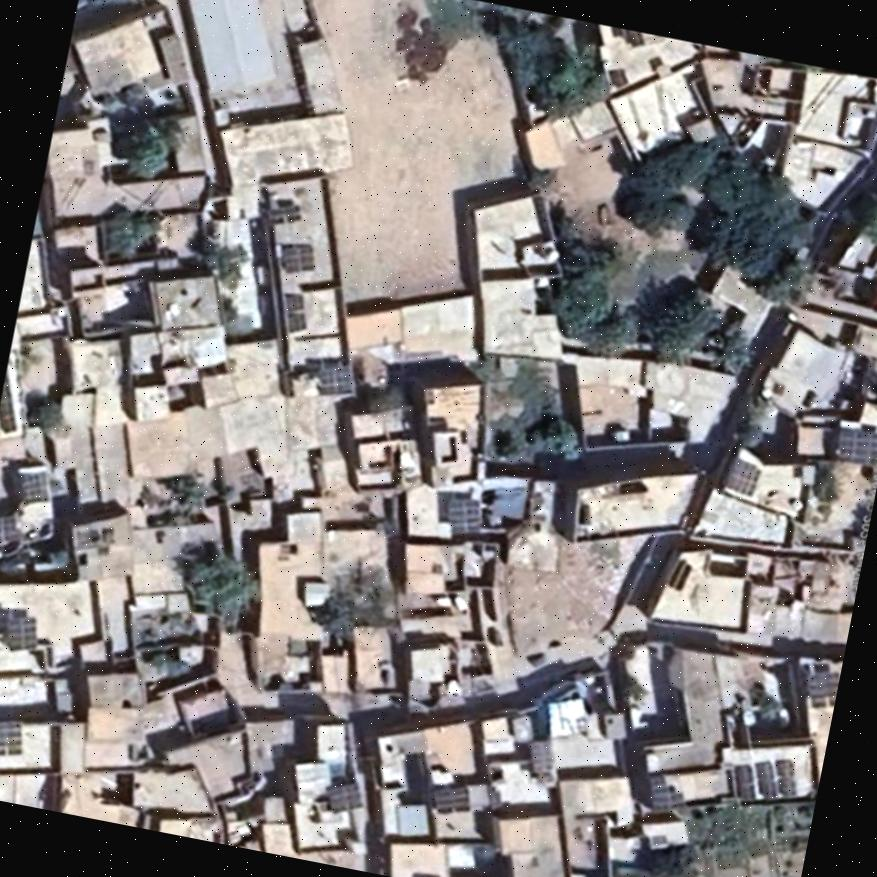Solarpanel: (839, 429, 877, 465), (325, 780, 364, 810), (318, 364, 350, 396), (448, 499, 478, 533), (7, 615, 35, 649), (281, 245, 311, 273), (20, 472, 46, 503), (775, 758, 796, 795), (0, 720, 22, 753), (757, 761, 776, 798), (283, 295, 303, 328), (735, 763, 751, 800)
